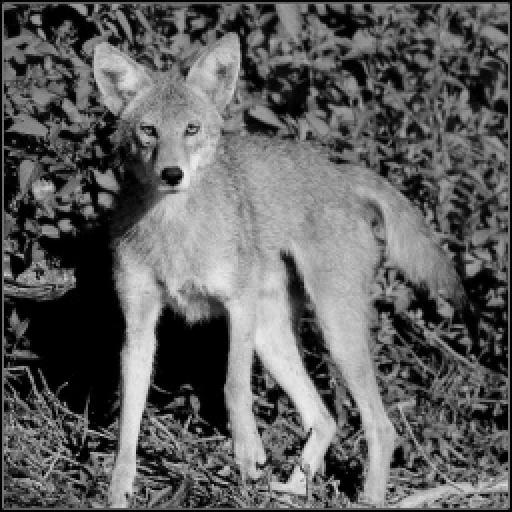zorro: (94, 34, 468, 506)
